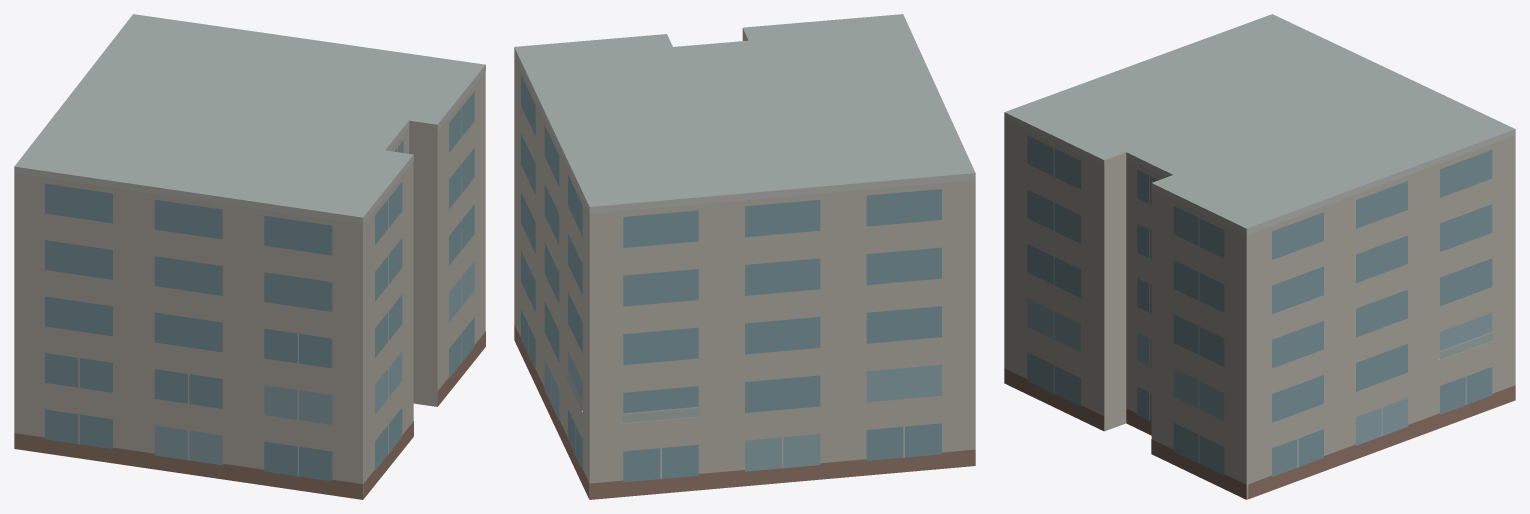
The model's file is survey-upis-32850318.glb.
3 renders of one model, left to right at view 1: azimuth 30°, elevation 25°; view 2: azimuth 150°, elevation 25°; view 3: azimuth 270°, elevation 25°, orthographic. The views are drawn at different scales.
Parts seen in each view (by area): view 1: survey-upis-32850318.tmp; view 2: survey-upis-32850318.tmp; view 3: survey-upis-32850318.tmp.
Part boxes in pixels (bbox=[...]): survey-upis-32850318.tmp: bbox=[14, 14, 485, 499]; survey-upis-32850318.tmp: bbox=[514, 14, 975, 499]; survey-upis-32850318.tmp: bbox=[1004, 14, 1515, 499].
Size of the model in its own units: 17.67 by 10.4 by 17.78.
